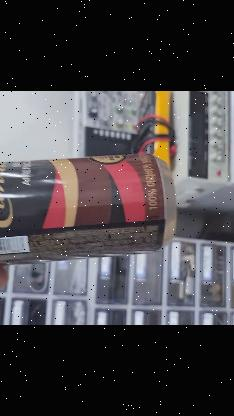Can: (0, 154, 168, 274)
